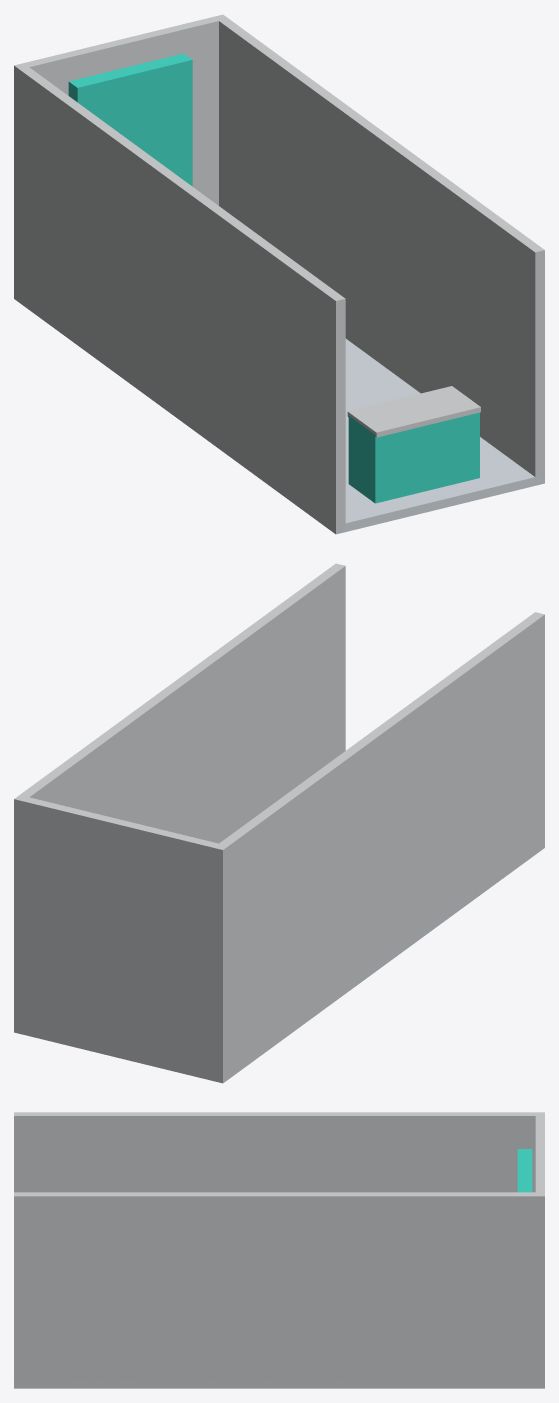
The picture shows the model from 3 angles, top to bottom: view 1: azimuth 30°, elevation 25°; view 2: azimuth 150°, elevation 25°; view 3: azimuth 270°, elevation 25°; orthographic projection. The views are drawn at different scales.
Visible parts, largest first — view 1: Exhibition Booth Concept; view 2: Exhibition Booth Concept; view 3: Exhibition Booth Concept.
Part boxes in pixels (x1=…): Exhibition Booth Concept: x1=14, y1=14, x2=544, y2=534; Exhibition Booth Concept: x1=14, y1=563, x2=544, y2=1083; Exhibition Booth Concept: x1=14, y1=1112, x2=544, y2=1388.
Size of the model in its own units: 3 by 3.2 by 8.
